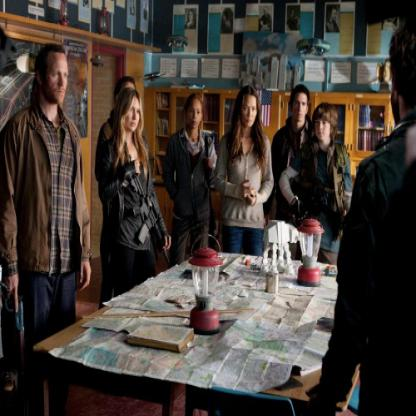Gun: (124, 161, 169, 266), (2, 286, 28, 382)
